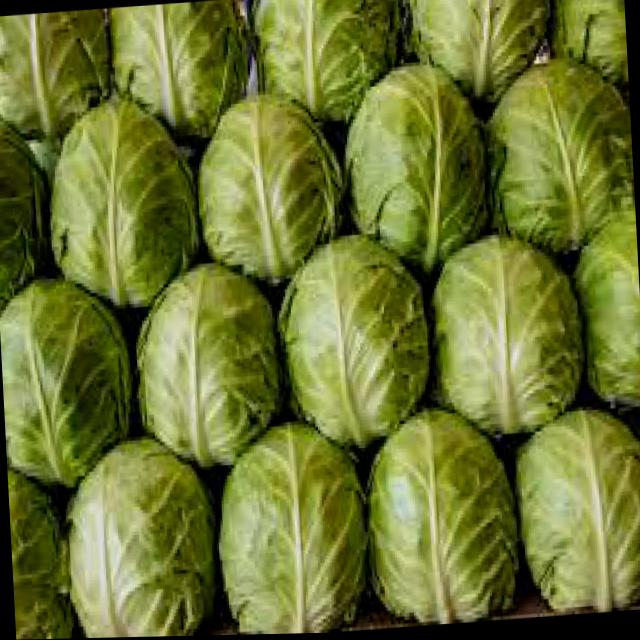Cabbage: (488, 19, 638, 260), (212, 418, 373, 636), (364, 414, 524, 632), (338, 63, 496, 276), (433, 229, 589, 444), (43, 94, 195, 310), (279, 235, 435, 444), (61, 432, 210, 639), (133, 258, 282, 458), (192, 88, 342, 285), (510, 388, 640, 614), (0, 274, 136, 489), (105, 3, 258, 144), (251, 0, 403, 129), (401, 0, 560, 105), (0, 9, 111, 139), (549, 0, 626, 92), (211, 608, 219, 636)
